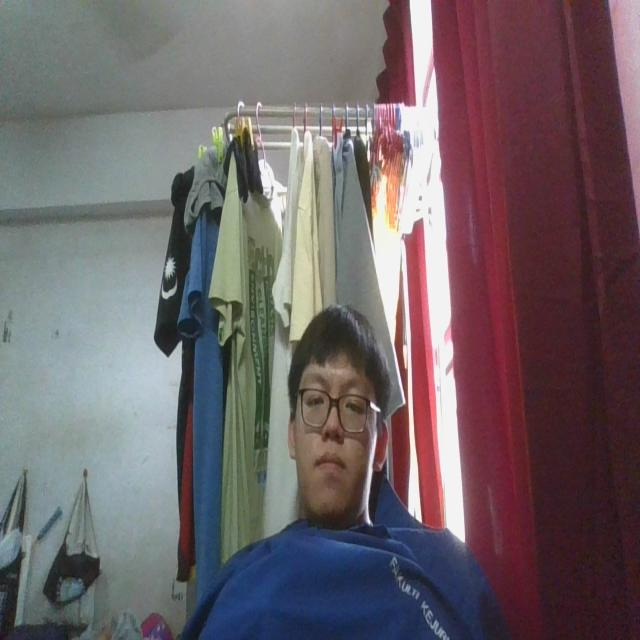person_without_labcoat: (183, 305, 508, 639)
